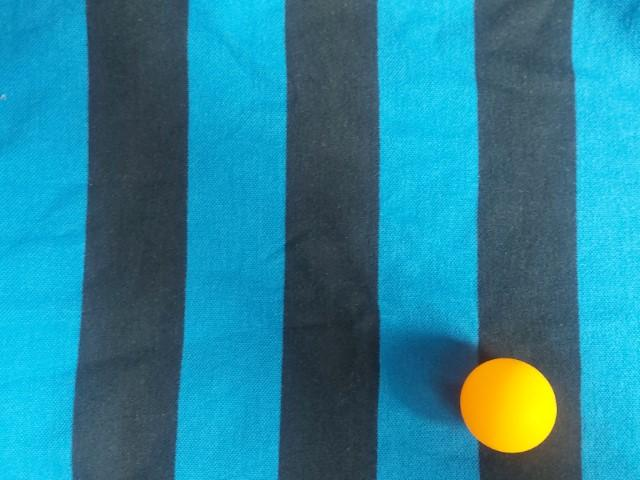oball: (77, 21, 185, 130)
